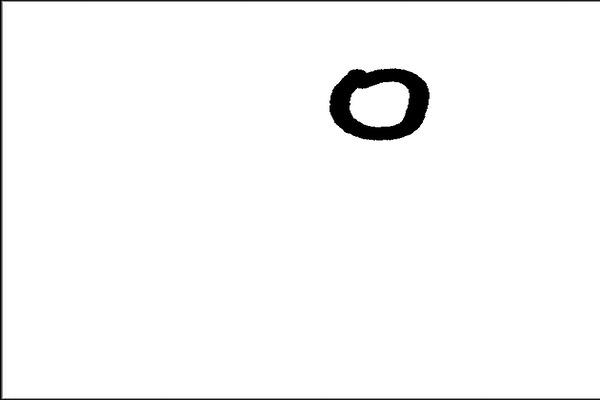O: (314, 59, 441, 152)
